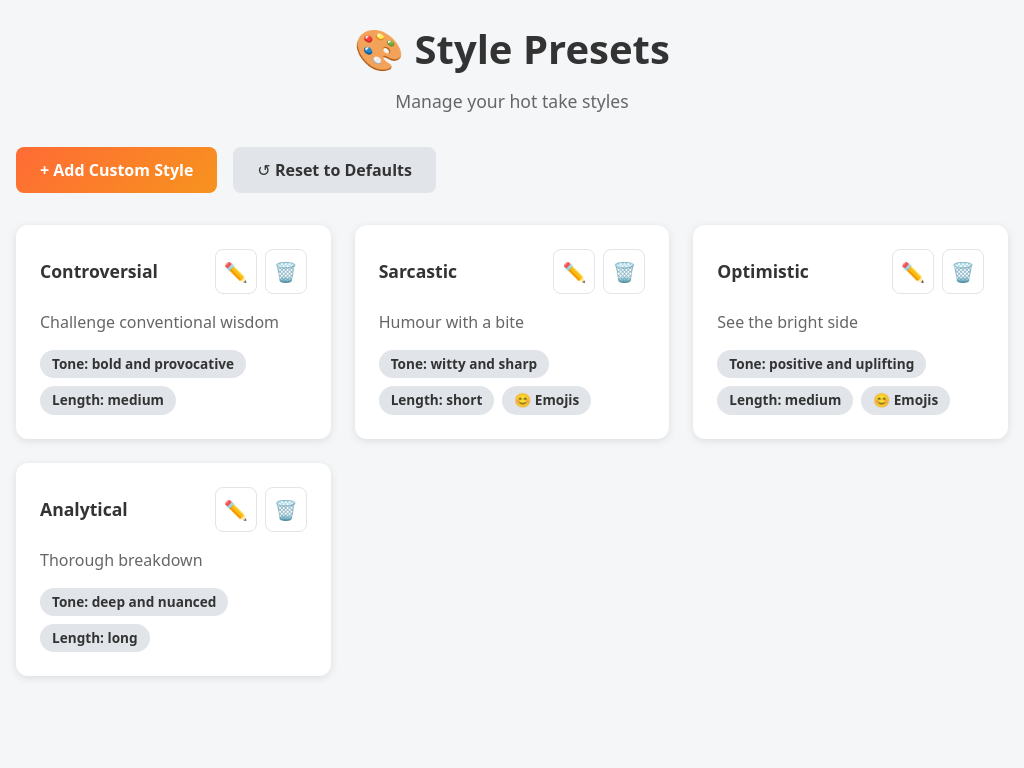
Test: StylesPage › deletes a style preset when confirmed
Click the button titled "Delete" next to "Controversial": (286, 271) [265,249,307,294]
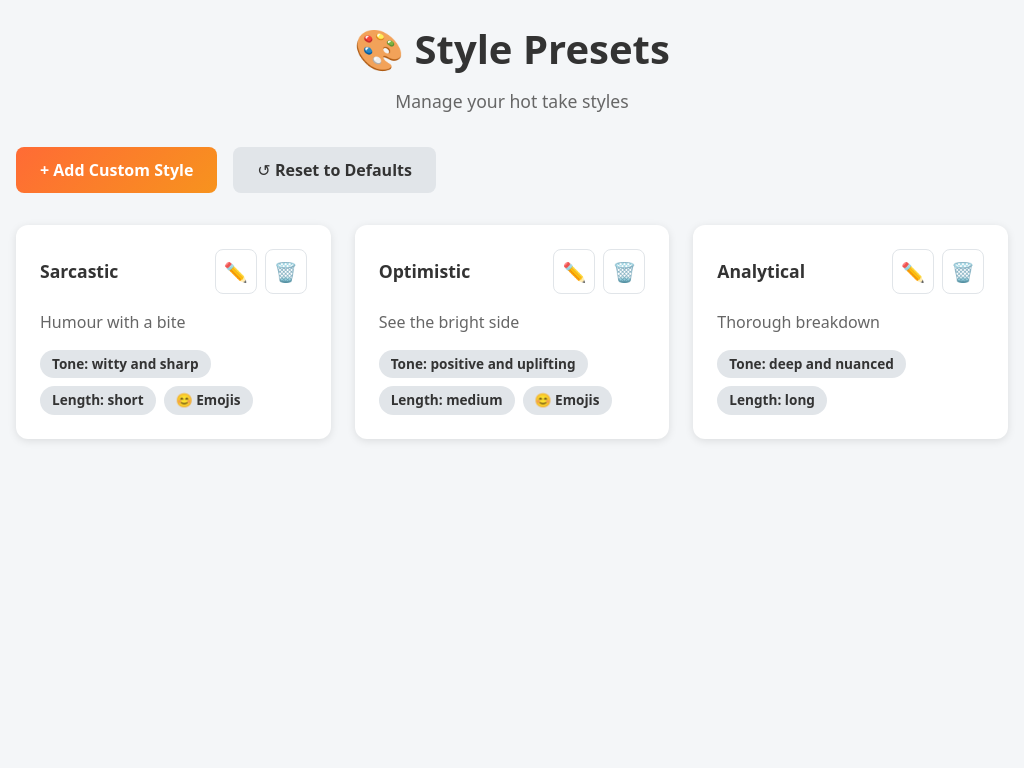
Expected: the number of buttons titled "Delete" is 3, [265,249,307,294]; [603,249,645,294]; [942,249,984,294]
